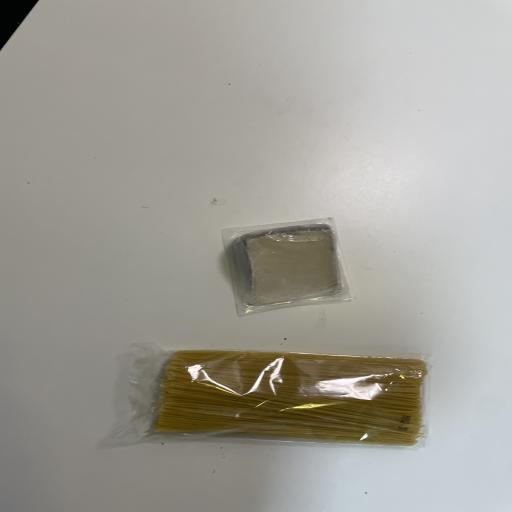cured_goat_cheese: (224, 213, 354, 315)
spaghetti: (138, 342, 434, 454)
